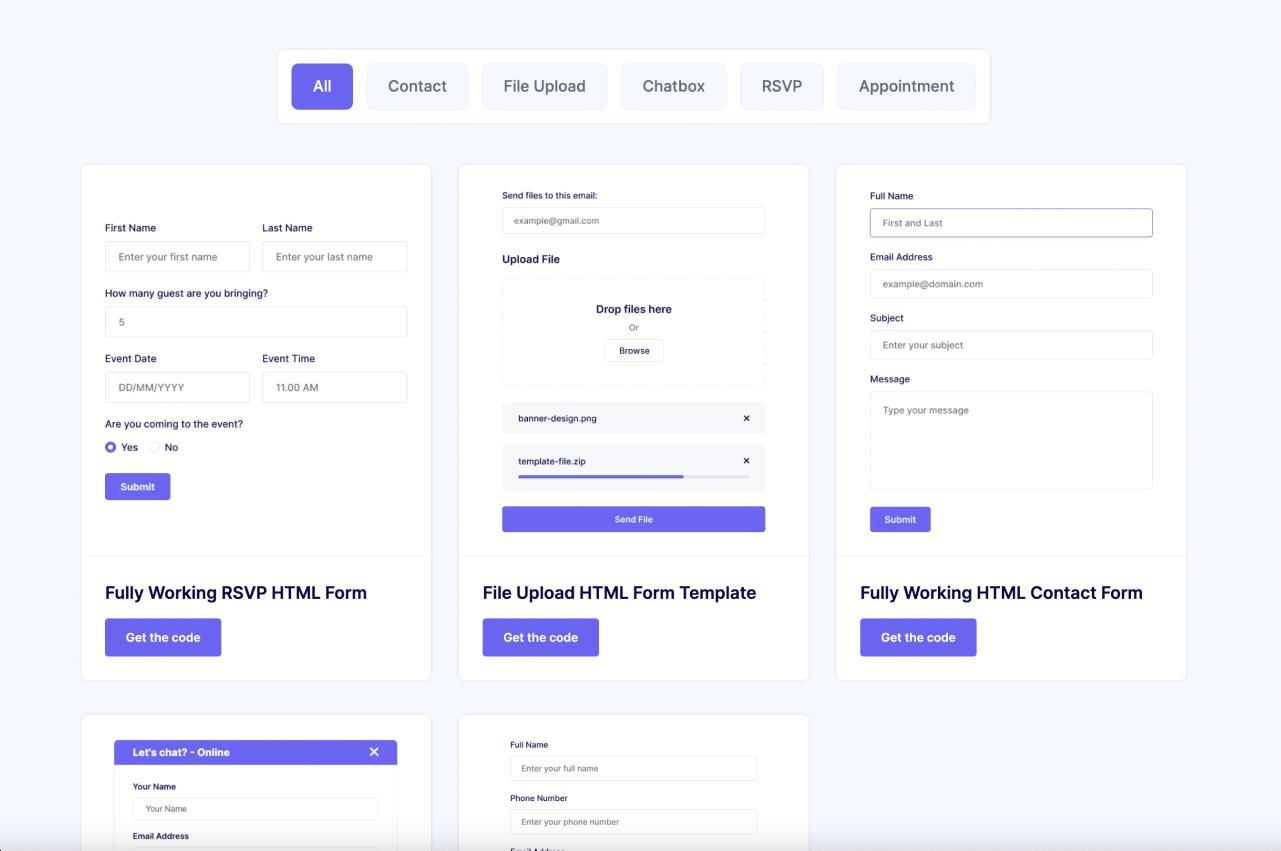button: (502, 508, 770, 532), (841, 62, 975, 109), (483, 67, 611, 105), (104, 618, 224, 658), (482, 619, 601, 657), (862, 618, 980, 656), (620, 67, 723, 108), (370, 67, 470, 109), (737, 64, 821, 110), (293, 64, 354, 109), (105, 473, 174, 502), (871, 507, 932, 534), (606, 340, 662, 362)
icon: (368, 744, 385, 762), (743, 457, 753, 466), (743, 415, 752, 425)
input: (107, 308, 409, 339), (870, 209, 1155, 239), (873, 329, 1155, 358), (502, 207, 765, 237), (871, 273, 1156, 300), (509, 811, 759, 836), (511, 758, 758, 782), (135, 799, 382, 821), (107, 238, 252, 272), (263, 241, 412, 272), (263, 375, 412, 406), (107, 374, 251, 400)
label: (478, 584, 771, 611), (863, 583, 1152, 610), (108, 582, 373, 608), (103, 287, 275, 302), (131, 744, 240, 764), (105, 418, 246, 433), (513, 411, 605, 429), (501, 192, 604, 205), (869, 251, 940, 268), (510, 791, 574, 809), (503, 252, 568, 269), (128, 830, 195, 846), (106, 348, 157, 369), (259, 352, 321, 368), (867, 370, 914, 391), (514, 457, 593, 469), (105, 221, 160, 238), (261, 221, 319, 237), (866, 188, 921, 204), (132, 779, 182, 794), (869, 310, 909, 328), (511, 739, 553, 753), (122, 443, 141, 455), (165, 442, 181, 454)
radio: (105, 442, 118, 455), (149, 442, 161, 454)
slider: (519, 474, 752, 482)
